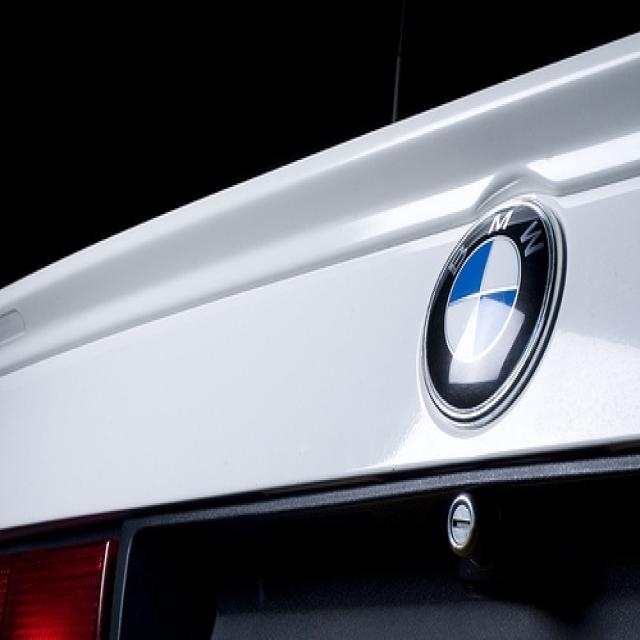bmw: (419, 198, 566, 429)
